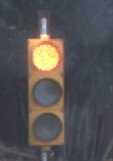Red: (17, 27, 72, 148)
